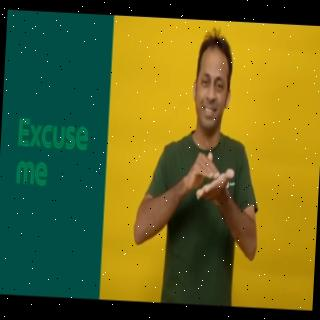ExcuseMe: (130, 32, 270, 306)
